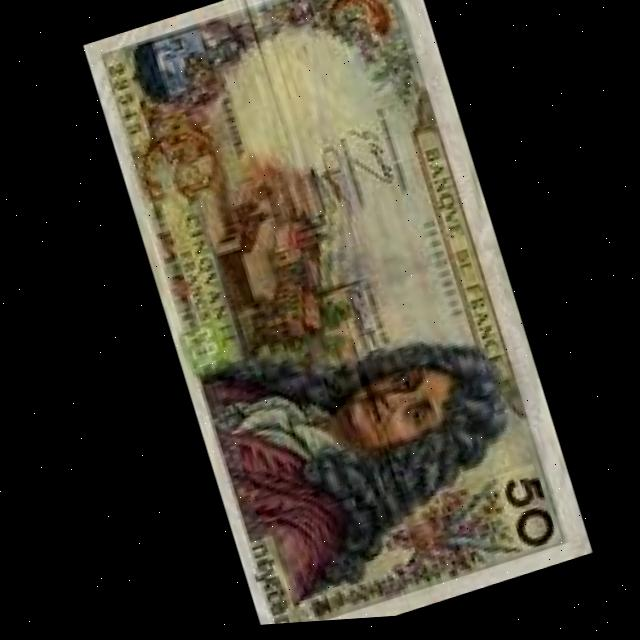banknote: (82, 0, 587, 636), (482, 472, 558, 566)
